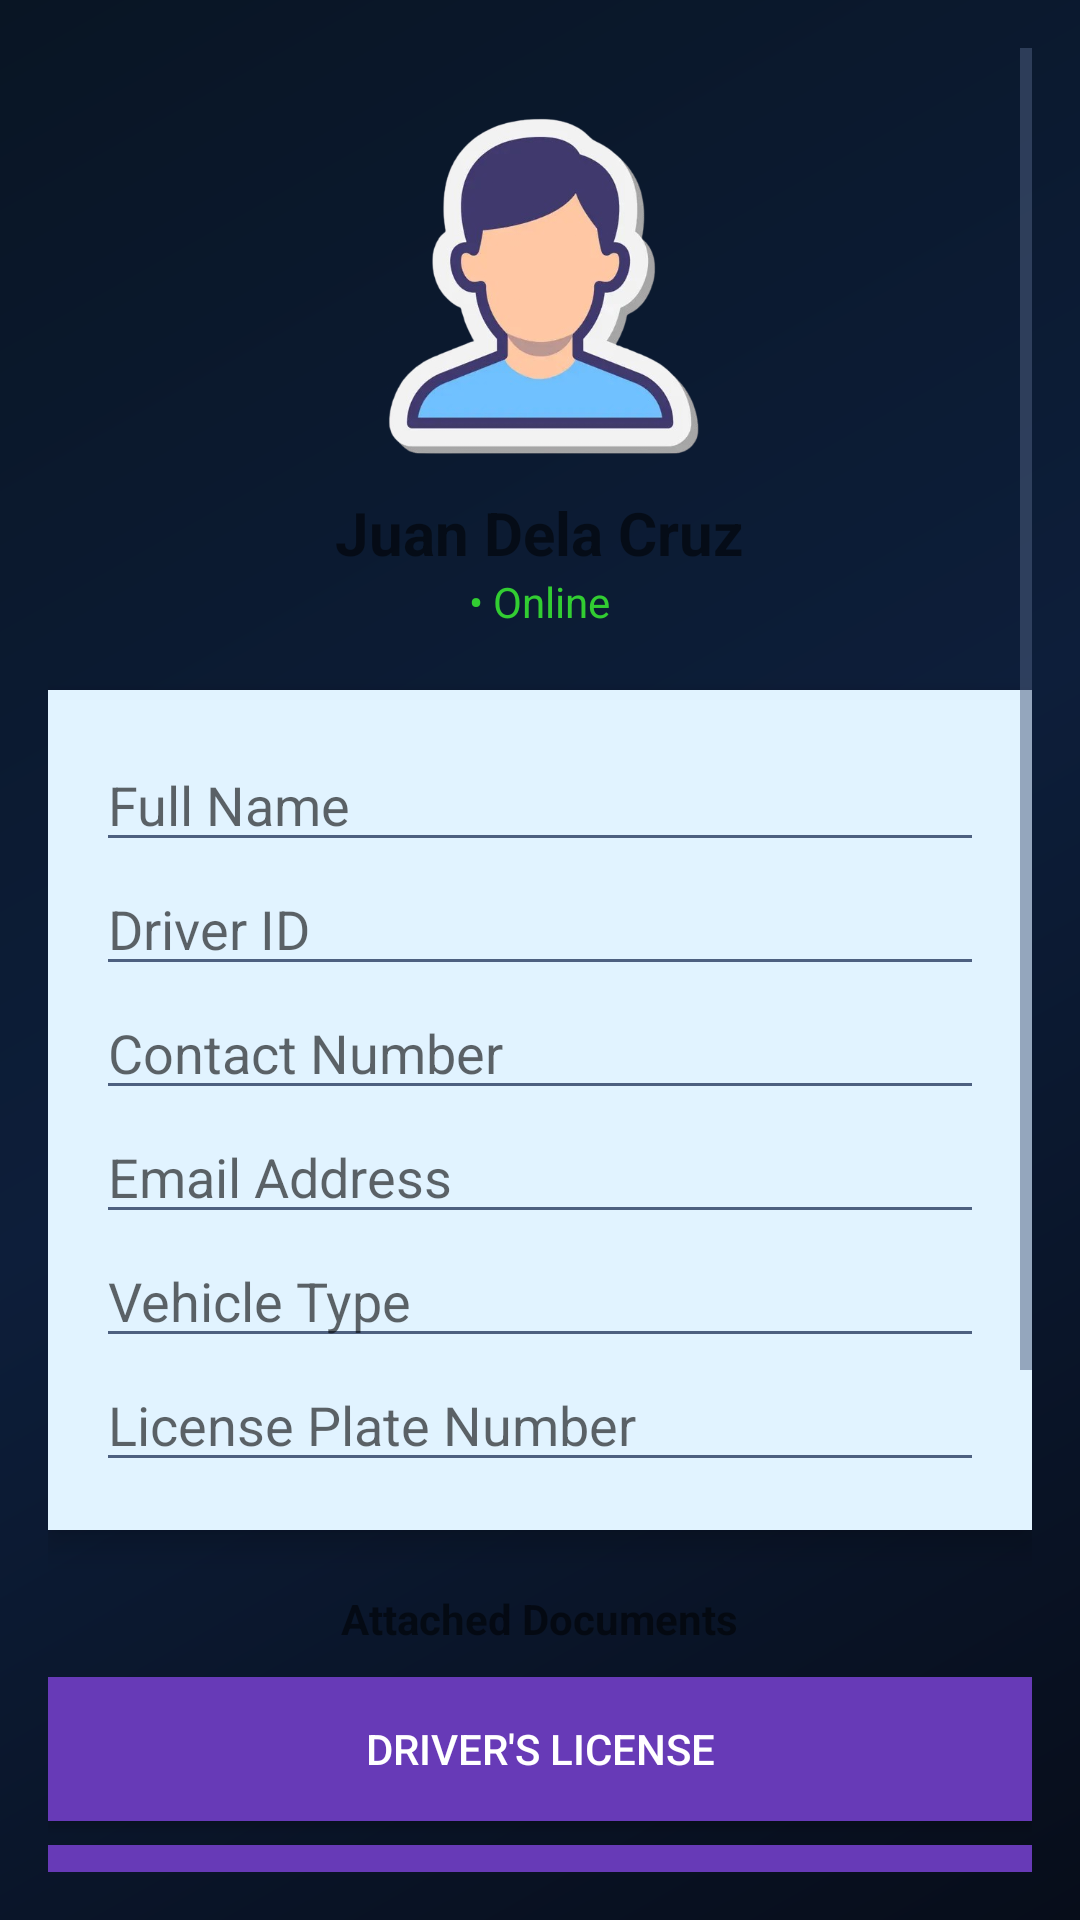

Screen size 1080px x 1920px. Icon name, then its center in pixels as (x=x, y=y):
person: (x=544, y=286)
